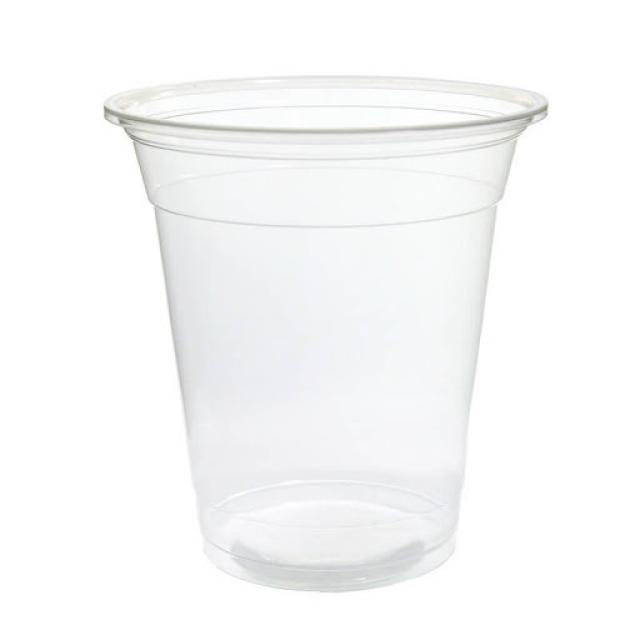Plastic: (107, 82, 553, 596)
